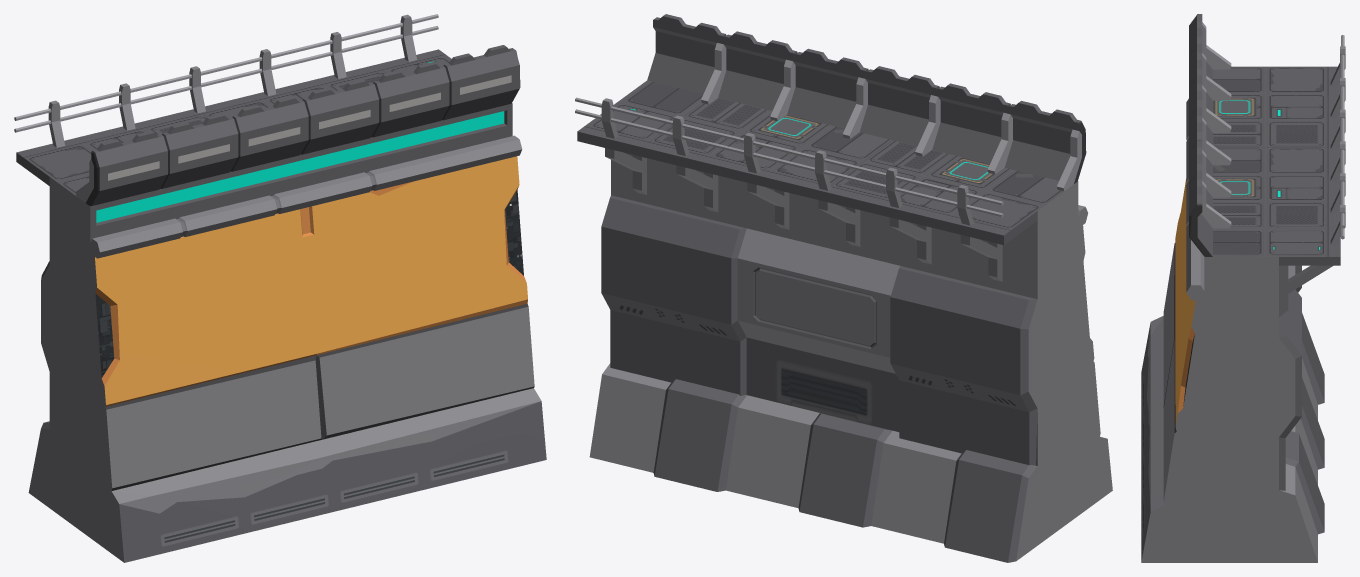
The model's file is worlds_SM_Bld_Corp_Wall_01_Half_01.gltf.
3 views of the same model, side by side, from view 1: azimuth 30°, elevation 25°; view 2: azimuth 150°, elevation 25°; view 3: azimuth 270°, elevation 25° (orthographic). The views are drawn at different scales.
Visible parts, largest first — view 1: SM_Bld_Corp_Wall_01_Half_01; view 2: SM_Bld_Corp_Wall_01_Half_01; view 3: SM_Bld_Corp_Wall_01_Half_01.
Part boxes in pixels (bbox=[...]): SM_Bld_Corp_Wall_01_Half_01: bbox=[14, 14, 546, 562]; SM_Bld_Corp_Wall_01_Half_01: bbox=[575, 14, 1112, 562]; SM_Bld_Corp_Wall_01_Half_01: bbox=[1141, 14, 1345, 562].
Size of the model in its own units: 10 by 8.9 by 4.54.
Materials: 1 (1 with a texture image).
